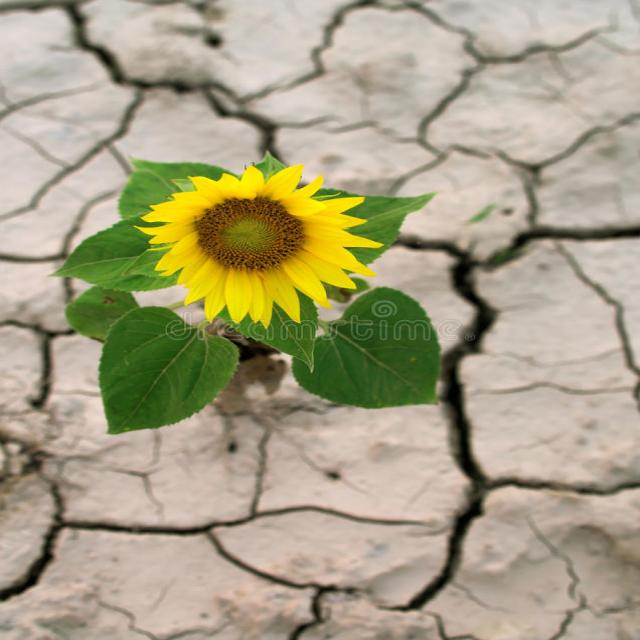sunflower: (128, 160, 387, 330)
